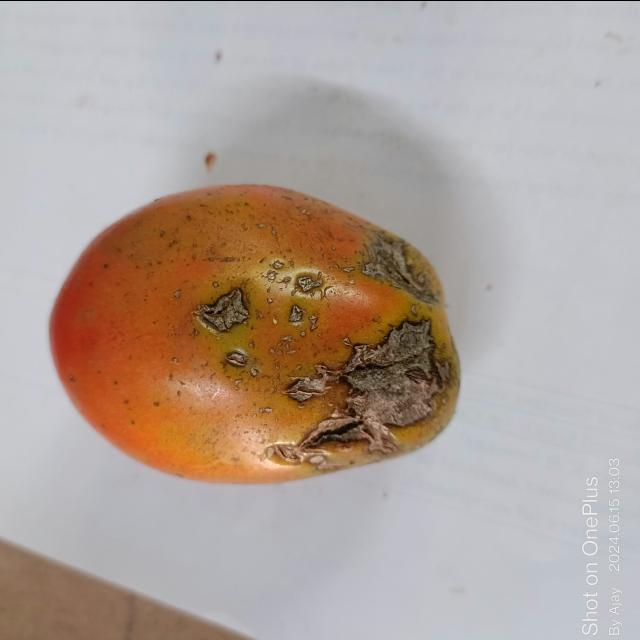Bacterial_Spot: (296, 308, 451, 452), (354, 242, 424, 296), (192, 276, 250, 336), (296, 270, 328, 294), (268, 255, 292, 285), (224, 346, 252, 370), (267, 335, 289, 357), (260, 402, 274, 416)
